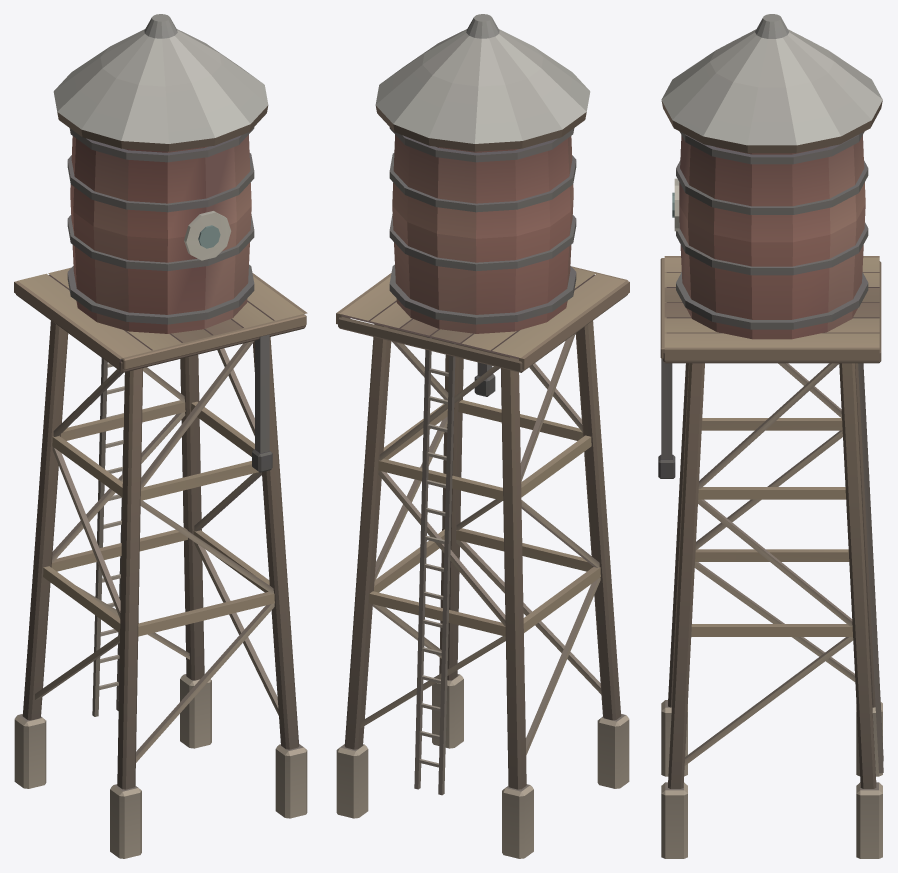
File: watertower.glb
3 views of the same model, side by side, from view 1: azimuth 30°, elevation 25°; view 2: azimuth 150°, elevation 25°; view 3: azimuth 270°, elevation 25° (orthographic).
Bounding box in the file's own units: 2.84 × 11.24 × 2.89.
